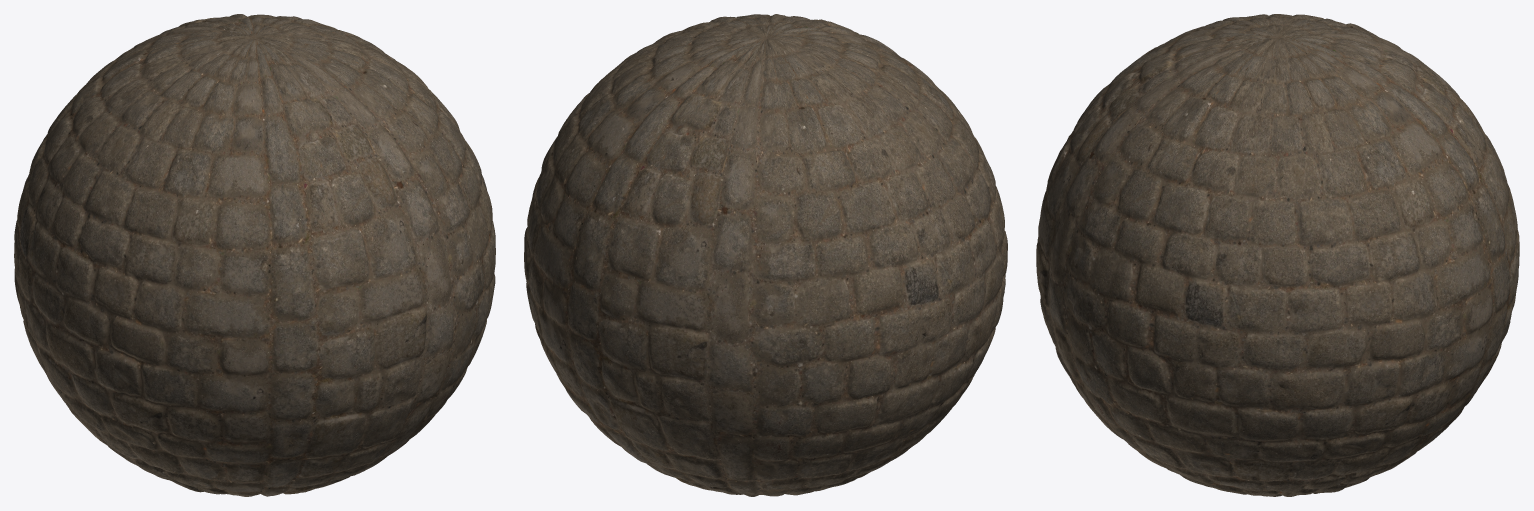
File: cobblestone_floor_09_1k.gltf
3 views of the same model, side by side, from view 1: azimuth 30°, elevation 25°; view 2: azimuth 150°, elevation 25°; view 3: azimuth 270°, elevation 25° (orthographic).
Visible parts, largest first — view 1: sphere_gltf; view 2: sphere_gltf; view 3: sphere_gltf.
Boxes of the visible parts, bbox=[...] form: sphere_gltf: bbox=[14, 14, 495, 496]; sphere_gltf: bbox=[524, 14, 1007, 496]; sphere_gltf: bbox=[1036, 14, 1519, 496].
Size of the model in its own units: 2.18 by 2.19 by 2.18.
Materials: 1 (1 with a texture image).
